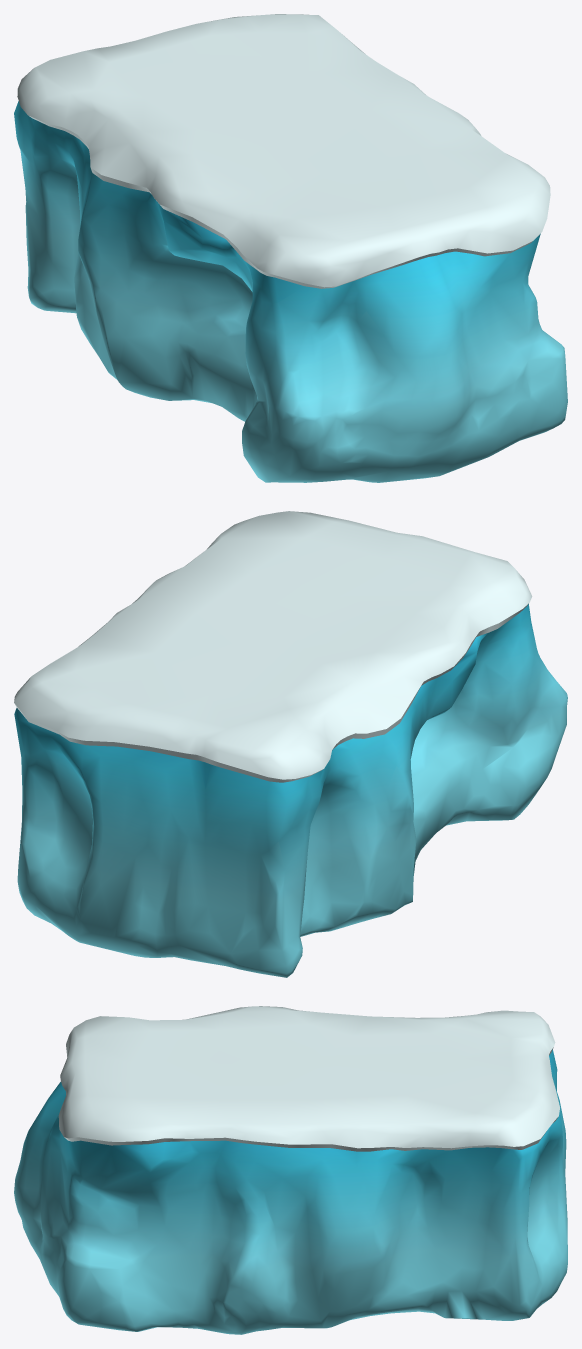
The model's file is iceberg_001.fbx.
3 views of the same model, one above another, from view 1: azimuth 30°, elevation 25°; view 2: azimuth 150°, elevation 25°; view 3: azimuth 270°, elevation 25° (orthographic). The views are drawn at different scales.
Visible parts, largest first — view 1: iceberg_001; view 2: iceberg_001; view 3: iceberg_001.
Boxes of the visible parts, box(x1,y1,x2,y2) form: iceberg_001: box(14, 14, 567, 482); iceberg_001: box(14, 511, 567, 977); iceberg_001: box(14, 1006, 567, 1334).
Size of the model in its own units: 2016 by 3141 by 1340.
